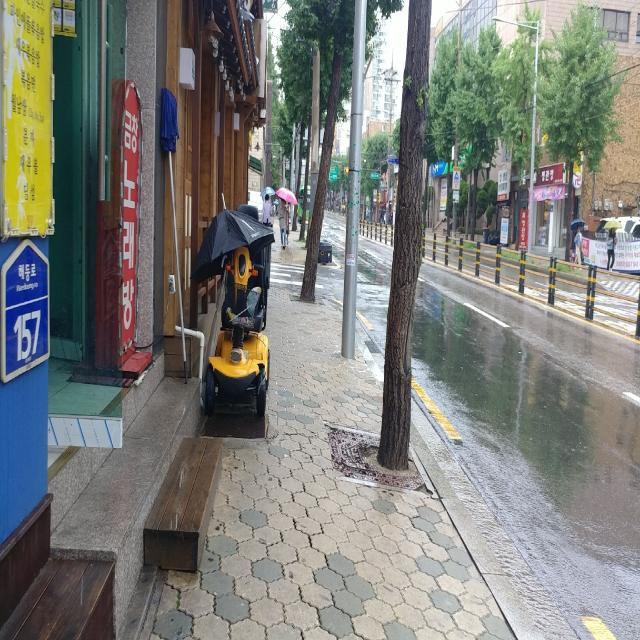횡단보도: (269, 263, 324, 289)
